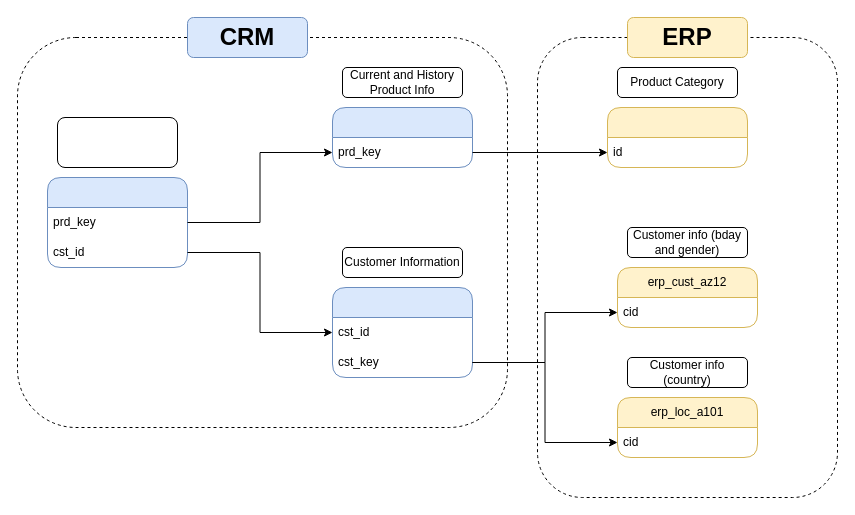
The diagram is 855 pixels wide and 515 high, and some of its shapes have lost their labels. The shapes that lost their labels are listed below. From the top down, each one's box as (x1, y1, x2, y2) in pixels, then its label:
(56, 116, 178, 168): Transactional Records about Sales and Orders
(332, 106, 472, 168): crm_prd_info
(606, 106, 748, 168): erp_px_cat_g1v2
(46, 176, 188, 268): crm_sales_details
(332, 286, 472, 378): crm_cust_info
